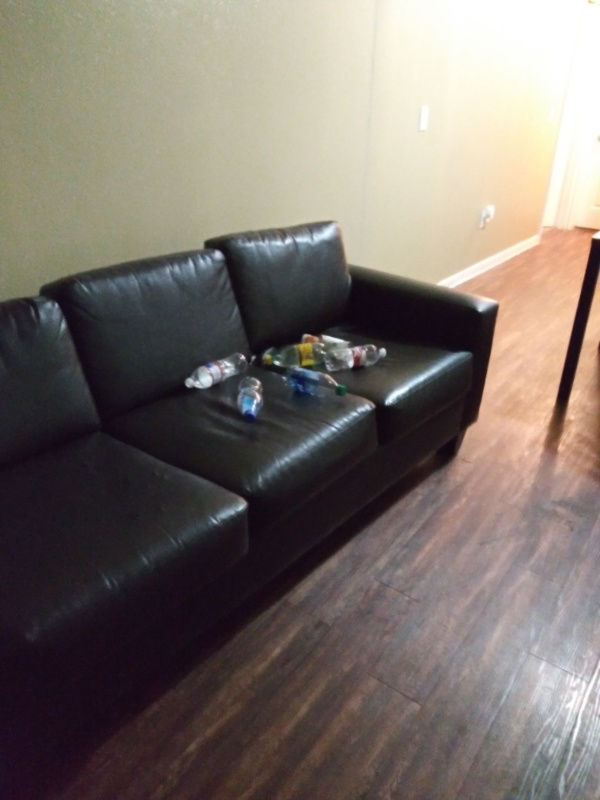bottle: (179, 347, 251, 394), (279, 365, 350, 401), (260, 341, 338, 370), (324, 343, 389, 375), (233, 375, 265, 422), (296, 331, 357, 348)
